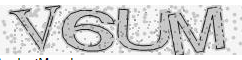6: (59, 8, 115, 55)
M: (167, 6, 230, 56)
U: (115, 7, 172, 54)
V: (8, 4, 61, 54)
